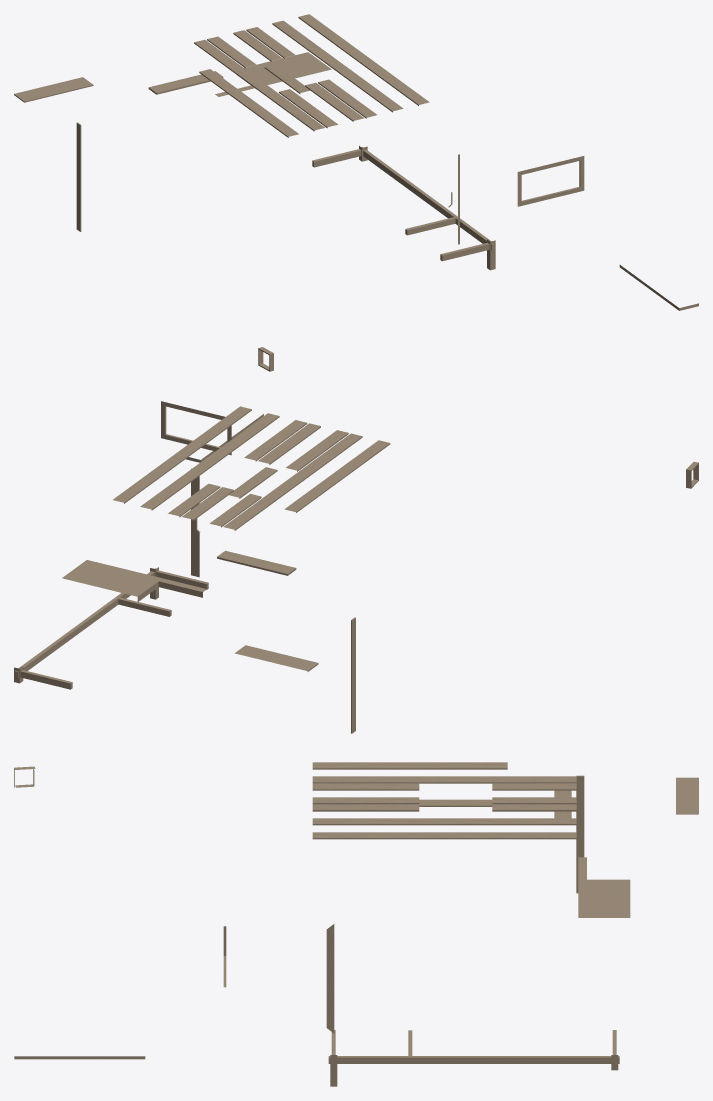
File: kd_stage_135d18_4_17.glb
The picture shows the model from 3 angles, top to bottom: view 1: azimuth 30°, elevation 25°; view 2: azimuth 150°, elevation 25°; view 3: azimuth 270°, elevation 25°; orthographic projection. The views are drawn at different scales.
Parts seen in each view (by area): view 1: kd_stage_135d18_4_17; view 2: kd_stage_135d18_4_17; view 3: kd_stage_135d18_4_17.
Boxes of the visible parts, x1=… form: kd_stage_135d18_4_17: x1=14, y1=14, x2=698, y2=371; kd_stage_135d18_4_17: x1=14, y1=401, x2=698, y2=733; kd_stage_135d18_4_17: x1=14, y1=762, x2=698, y2=1086.
Bounding box in the file's own units: 7.86 × 3.32 × 9.85.
1 material, 1 textured.
